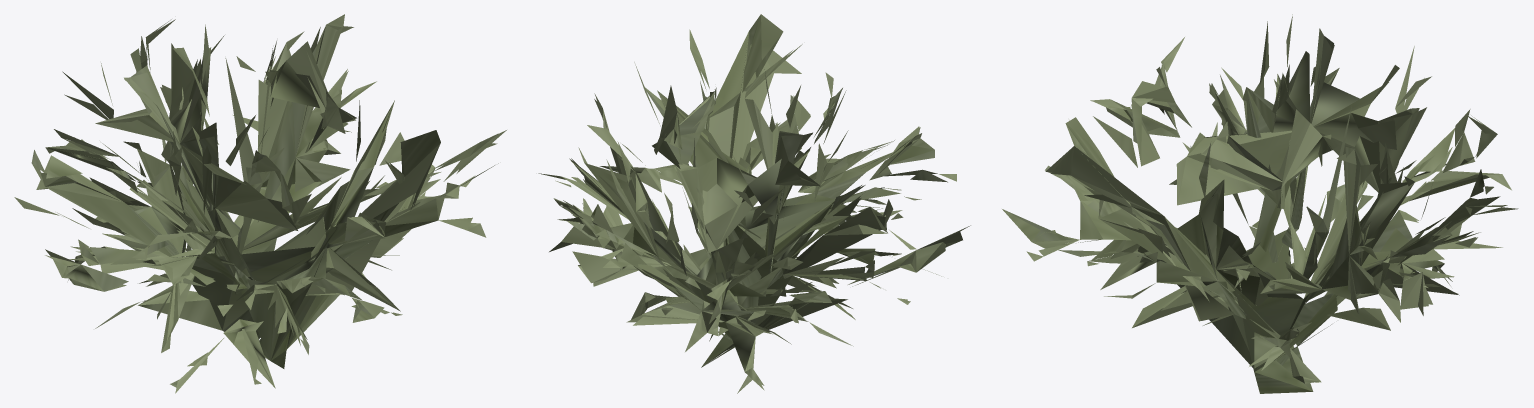
The model's file is a40_shrub.glb.
The picture shows the model from 3 angles, left to right: view 1: azimuth 30°, elevation 25°; view 2: azimuth 150°, elevation 25°; view 3: azimuth 270°, elevation 25°; orthographic projection. The views are drawn at different scales.
Visible parts, largest first — view 1: body; view 2: body; view 3: body.
Part boxes in pixels (x1,y1,x2,y2): body: (14,14,506,393); body: (538,14,970,393); body: (1002,14,1518,393).
Size of the model in its own units: 0.9352 by 0.6896 by 0.9266.
Materials: 1 (1 with a texture image).
